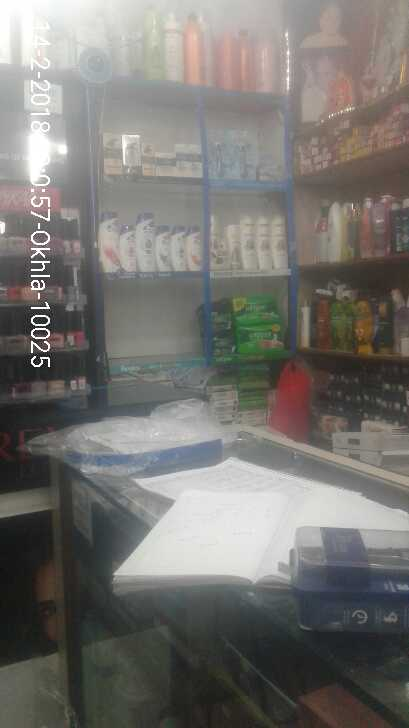venus: (229, 125, 257, 180), (209, 125, 229, 181), (257, 155, 287, 180)
